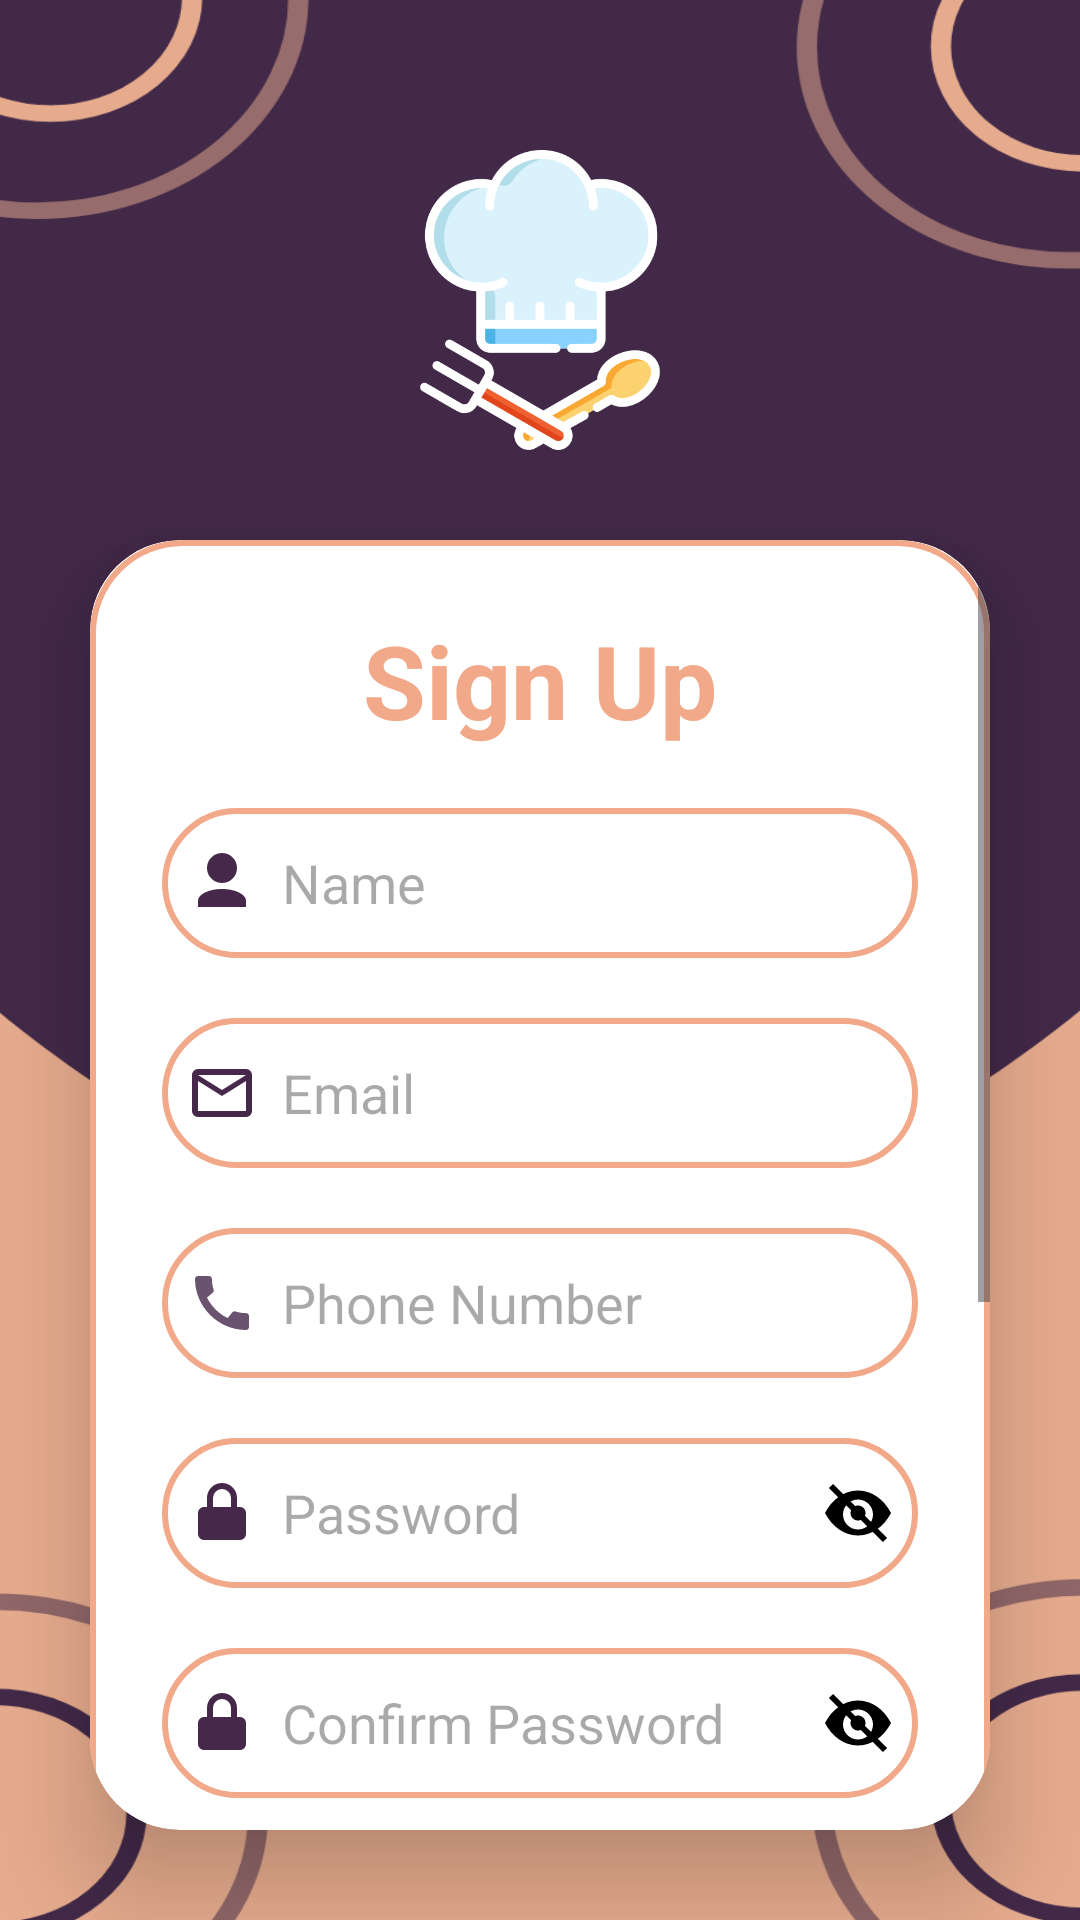

Icons on this 1080px x 1920px Android screen, each with the point to tap as (x=x, y=y):
chef: (x=540, y=300)
